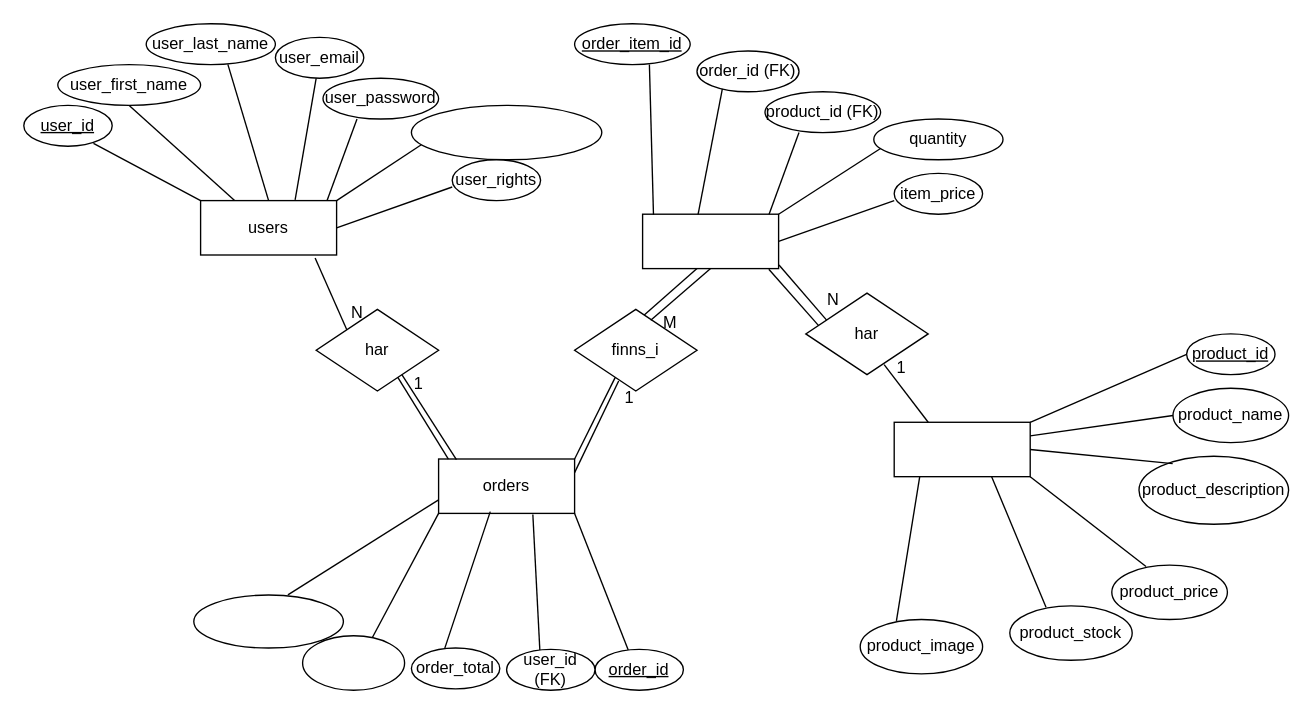
Image size: 1312x714. Some labels were removed from this diagram. Each missing label, with the centre of its shape:
"order_created_at" belongs at (267,621).
"order_items" belongs at (710,241).
"order_status" belongs at (353,662).
"products" belongs at (961,449).
"user_account_created_at" belongs at (506,132).
